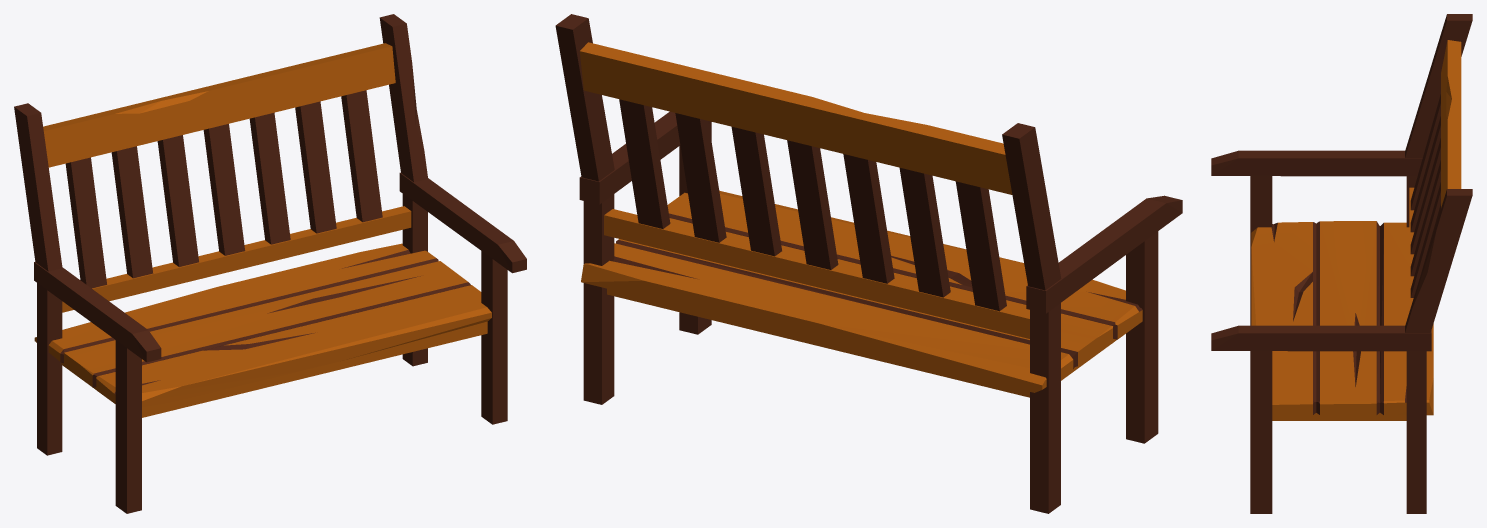
File: Bench.fbx
The picture shows the model from 3 angles, left to right: view 1: azimuth 30°, elevation 25°; view 2: azimuth 150°, elevation 25°; view 3: azimuth 270°, elevation 25°; orthographic projection. The views are drawn at different scales.
Parts seen in each view (by area): view 1: Bench; view 2: Bench; view 3: Bench.
Part boxes in pixels (x1,y1,x2,y2): Bench: (14, 14, 526, 513); Bench: (555, 14, 1182, 513); Bench: (1211, 14, 1472, 513).
Size of the model in its own units: 47.1 by 38.22 by 28.44.
